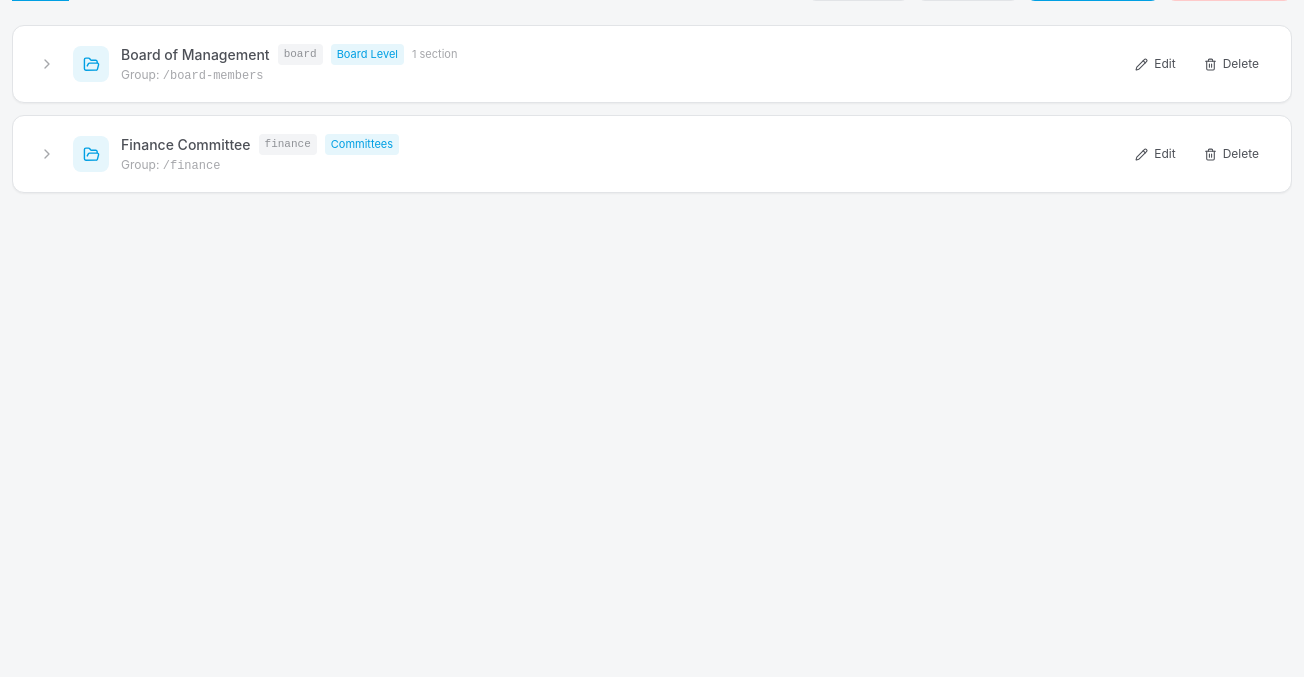
it: AdminShell › opens the edit form pre-filled and with the id locked
Click the button "Edit" in the row of "section": (1155, 64) [1123, 46, 1188, 82]
(page scrolled)
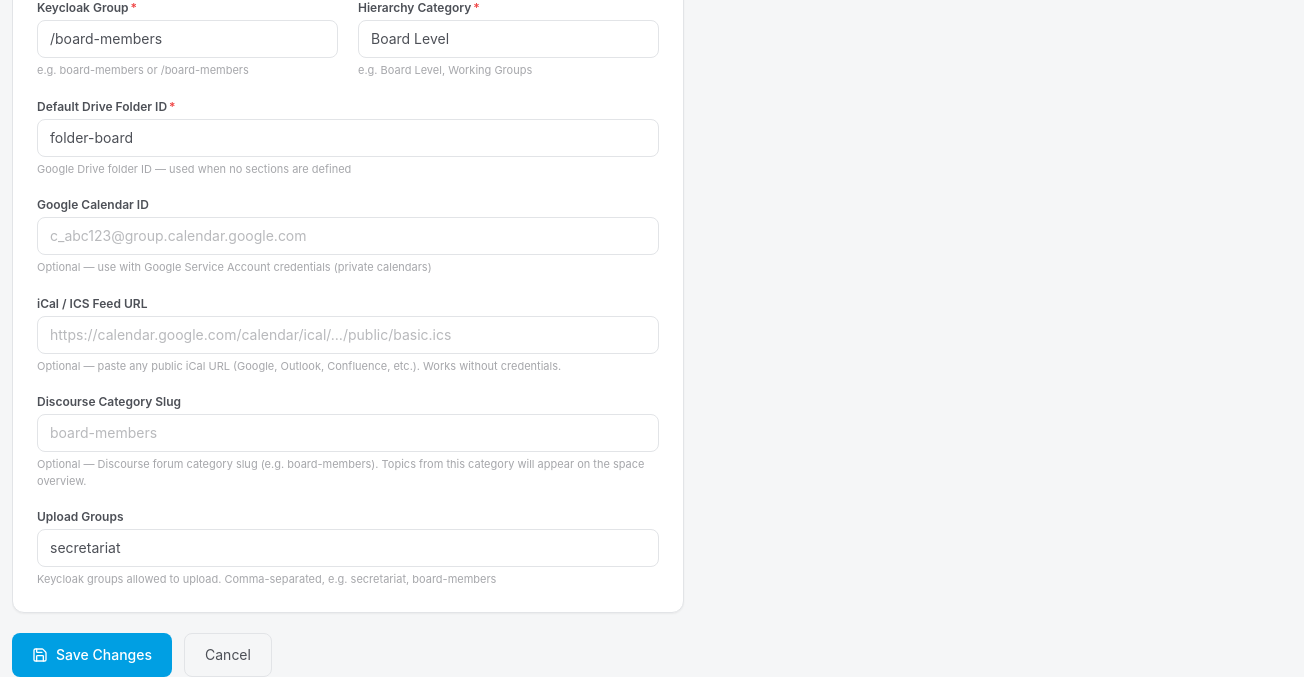
Result: the field showing "secretariat" below "Upload Groups" is shown at [37, 529, 659, 567]
